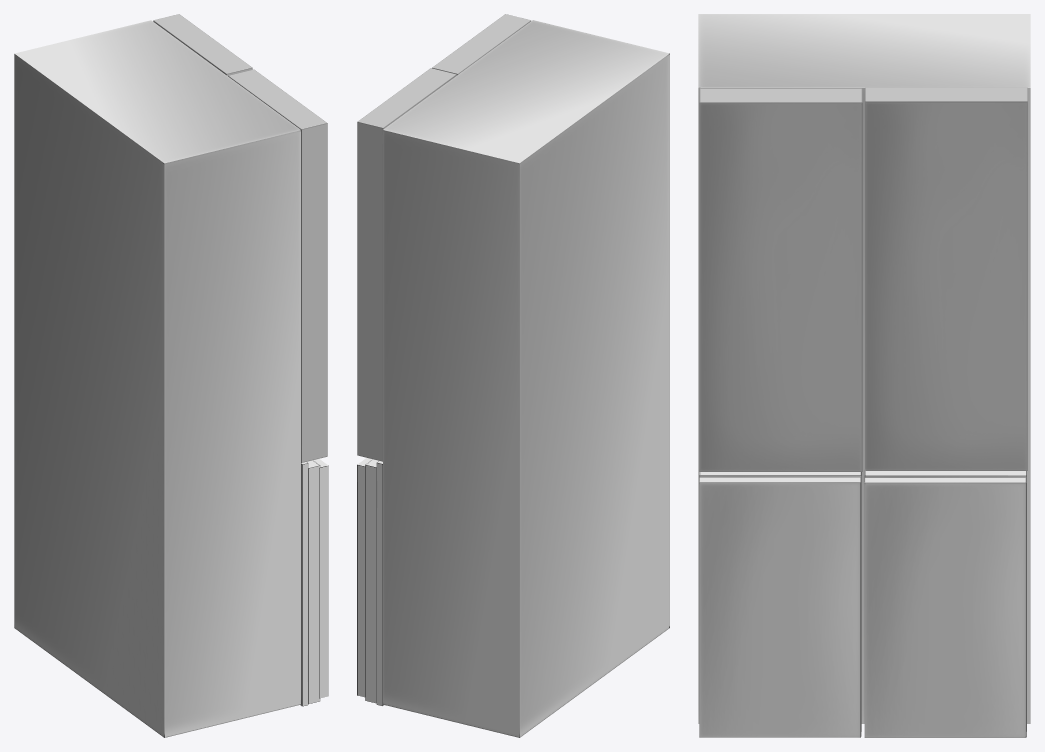
Rendered from fridge.obj.
The picture shows the model from 3 angles, left to right: view 1: azimuth 30°, elevation 25°; view 2: azimuth 150°, elevation 25°; view 3: azimuth 270°, elevation 25°; orthographic projection. The views are drawn at different scales.
Parts seen in each view (by area): view 1: Cube, Cube.003_Cube.001, Cube.002_Cube.001, Cube.003_Cube.004; view 2: Cube, Cube.003_Cube.004, Cube.002_Cube.003, Cube.003_Cube.001; view 3: Cube.003_Cube.001, Cube.003_Cube.004, Cube.002_Cube.003, Cube.002_Cube.001, Cube.
Boxes of the visible parts, x1,y1,x2,y2 form: Cube: (14,20,301,737); Cube.003_Cube.001: (228,69,327,462); Cube.002_Cube.001: (300,459,328,706); Cube.003_Cube.004: (153,14,252,75); Cube: (383,20,669,737); Cube.003_Cube.004: (357,68,456,461); Cube.002_Cube.003: (357,458,383,705); Cube.003_Cube.001: (432,14,531,75); Cube.003_Cube.001: (699,88,862,471); Cube.003_Cube.004: (865,87,1027,470); Cube.002_Cube.003: (864,470,1026,737); Cube.002_Cube.001: (699,469,861,737); Cube: (698,14,1030,723).
Size of the model in its own units: 0.5696 by 1.91 by 0.9.
